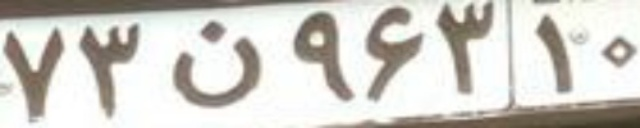0: (599, 35, 639, 66)
1: (532, 13, 572, 92)
3: (77, 22, 142, 118), (436, 2, 501, 94)
6: (360, 4, 430, 101)
7: (2, 24, 62, 122)
9: (292, 13, 353, 100)
non: (167, 21, 264, 111)
